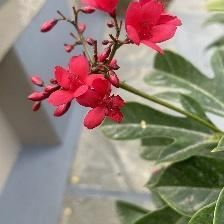jatropha: (52, 58, 103, 103)
